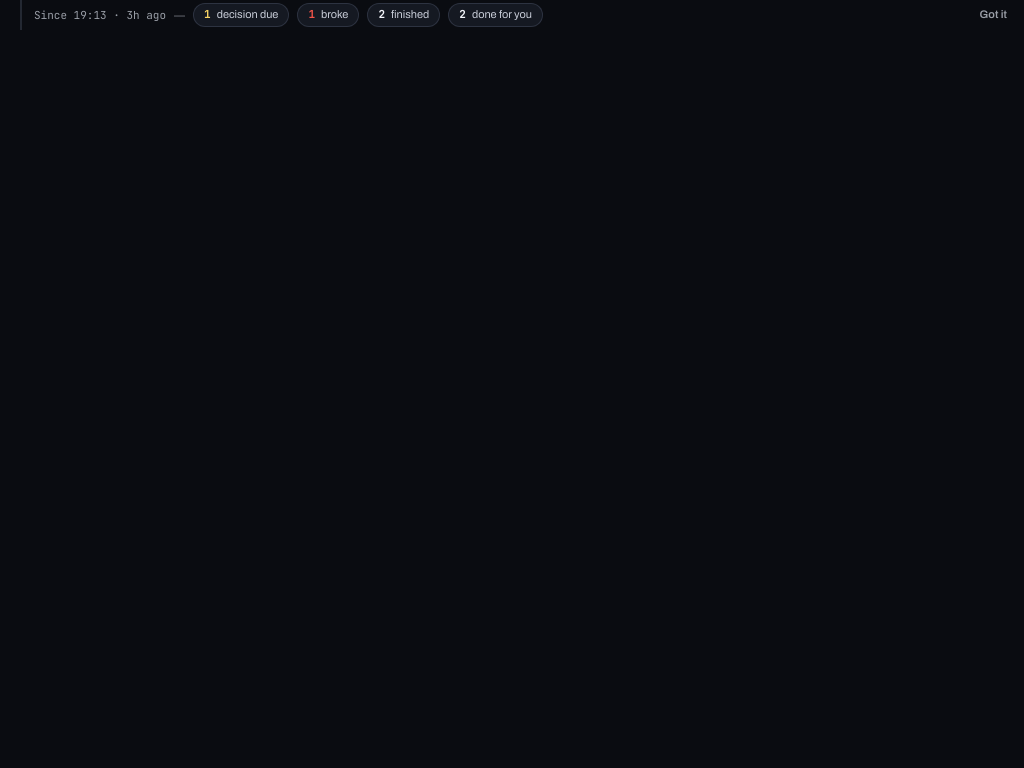
HandoverPanel — the strip › Escape closes the overlay and focus returns to its chip
The width and height of the screenshot is (1024, 768).
Click the button with test id "handover-chip" showing "2 finished".
click(404, 15)  # box [367,3,440,27]
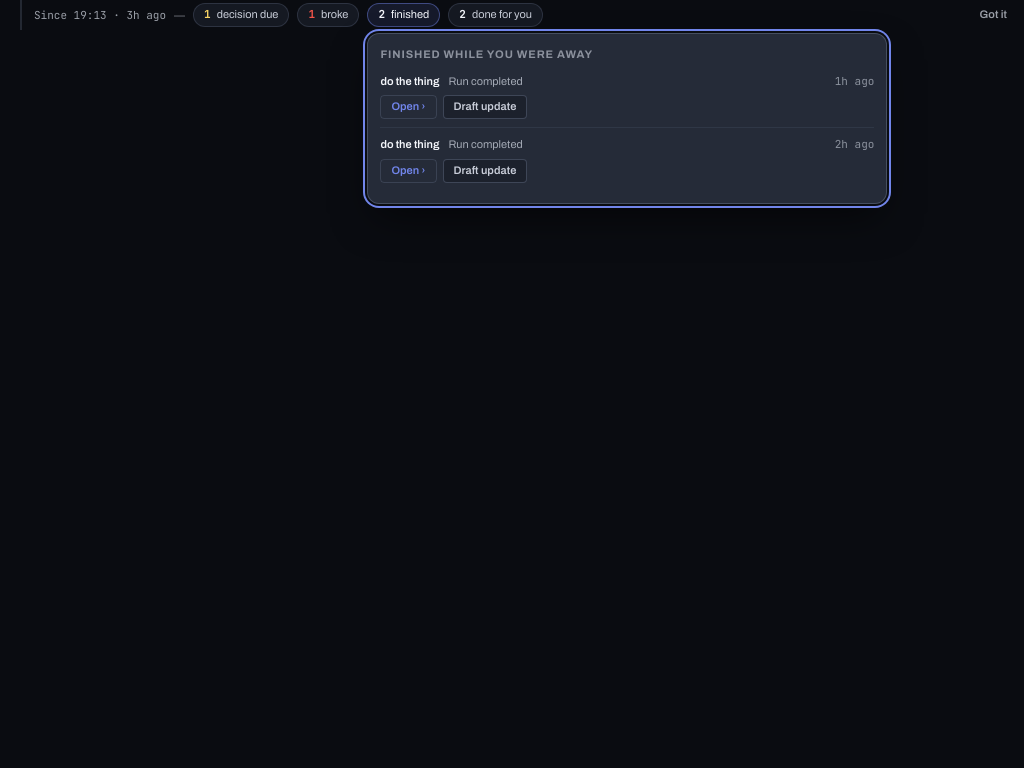
Press Escape
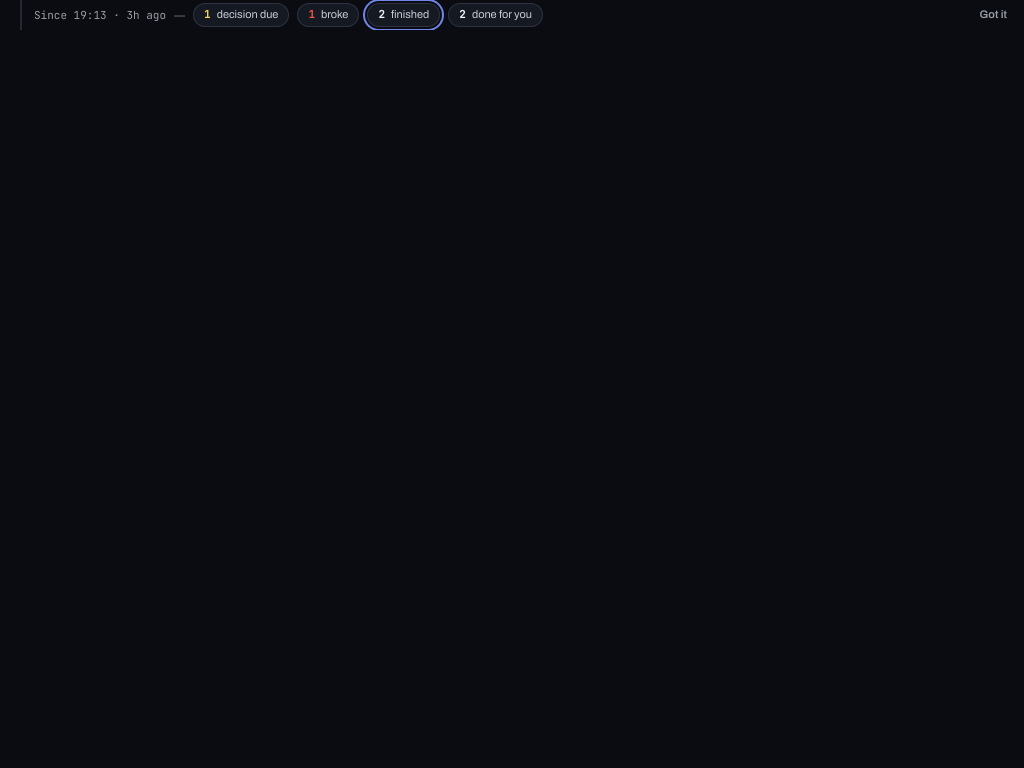
Expected: the dialog with test id "handover-overlay" is gone
